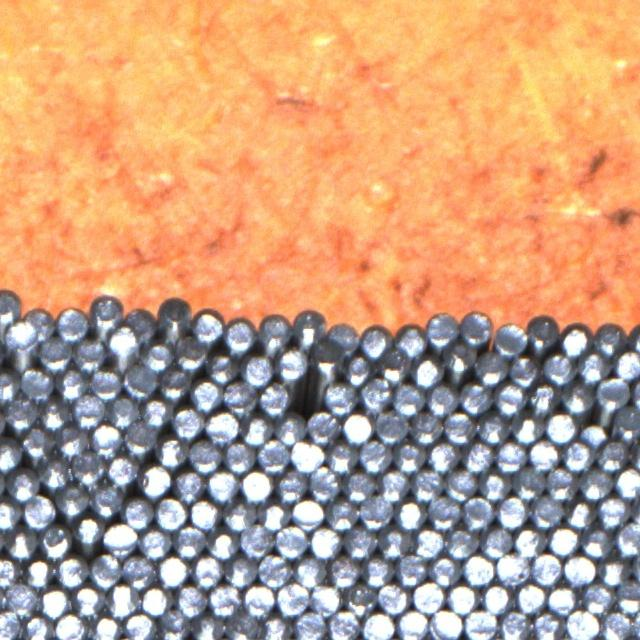tool: (89, 298, 123, 334), (55, 306, 89, 341), (409, 409, 443, 444), (206, 409, 240, 444), (56, 483, 90, 518), (70, 451, 104, 486), (459, 310, 493, 345), (22, 304, 55, 340), (596, 494, 630, 528), (155, 553, 189, 587), (4, 395, 38, 429), (256, 553, 290, 587), (595, 378, 629, 412), (374, 408, 408, 442), (359, 377, 393, 411), (38, 335, 72, 369), (560, 380, 594, 414), (274, 580, 308, 614), (256, 317, 290, 351), (474, 351, 508, 385), (91, 482, 124, 517), (156, 306, 189, 341), (54, 555, 88, 588), (495, 494, 528, 528), (496, 551, 529, 585), (308, 524, 342, 557), (105, 582, 138, 616), (344, 524, 377, 558), (461, 494, 494, 528), (462, 552, 495, 586), (88, 554, 122, 587), (342, 468, 376, 501), (39, 396, 72, 430), (39, 524, 72, 558), (5, 582, 38, 616), (21, 494, 54, 528), (308, 582, 341, 616), (274, 525, 308, 558), (358, 438, 391, 472), (441, 346, 474, 380), (21, 424, 54, 458), (20, 366, 54, 399), (72, 338, 105, 372), (290, 315, 323, 349), (324, 441, 358, 474), (191, 554, 224, 587), (542, 351, 575, 384), (138, 526, 171, 559), (107, 394, 140, 427), (154, 496, 187, 529), (443, 410, 476, 443), (547, 523, 580, 556), (207, 351, 240, 384), (308, 410, 341, 443), (5, 527, 38, 560), (546, 582, 579, 615), (459, 381, 492, 414), (293, 555, 326, 588), (359, 494, 392, 527), (190, 378, 223, 411), (240, 468, 273, 501), (576, 350, 609, 383), (581, 525, 614, 558), (479, 581, 512, 614), (121, 554, 154, 587), (307, 466, 340, 499), (56, 425, 89, 458), (429, 607, 462, 640), (172, 468, 205, 501), (393, 440, 426, 473), (222, 440, 255, 473), (122, 421, 155, 454), (290, 439, 323, 472), (223, 379, 256, 412), (526, 312, 559, 345), (140, 582, 172, 616), (392, 382, 424, 416), (394, 496, 426, 530), (395, 552, 427, 586), (344, 582, 376, 616), (530, 494, 562, 528), (530, 552, 562, 586), (224, 554, 256, 588), (72, 517, 104, 551), (189, 497, 221, 530), (396, 608, 429, 640), (242, 582, 274, 615), (292, 496, 324, 529), (258, 382, 290, 415), (206, 468, 238, 501), (446, 581, 478, 614), (410, 468, 442, 501), (90, 422, 122, 455), (445, 526, 478, 558), (444, 468, 477, 500), (564, 553, 596, 586), (493, 382, 526, 414), (208, 582, 240, 615), (360, 555, 393, 587), (545, 466, 577, 499), (240, 523, 272, 556), (106, 453, 138, 486), (140, 395, 172, 428), (599, 555, 631, 588), (508, 354, 540, 387), (492, 323, 524, 356), (360, 325, 392, 358), (425, 383, 457, 416), (596, 438, 629, 470), (480, 526, 513, 558), (40, 456, 72, 489), (561, 438, 593, 471), (327, 554, 360, 586), (511, 412, 544, 444), (223, 499, 256, 531), (324, 381, 357, 413), (7, 468, 40, 500), (377, 580, 409, 613), (342, 354, 375, 386), (527, 438, 559, 471), (188, 440, 221, 472), (579, 467, 611, 500), (274, 469, 307, 501), (174, 583, 206, 616), (173, 524, 205, 557), (427, 496, 460, 528), (22, 555, 54, 588), (428, 554, 460, 587), (326, 496, 358, 529), (191, 310, 224, 342), (376, 469, 409, 501), (241, 415, 274, 447), (328, 322, 360, 355), (311, 356, 344, 388), (598, 609, 632, 640), (156, 609, 190, 640), (530, 609, 564, 640), (104, 522, 136, 554), (514, 581, 546, 613), (39, 585, 71, 617), (412, 526, 444, 558), (342, 410, 374, 442), (241, 354, 273, 386), (412, 580, 444, 612), (545, 410, 577, 442), (88, 366, 120, 398), (514, 525, 546, 557), (207, 528, 239, 560), (56, 367, 88, 399), (512, 467, 544, 499), (72, 584, 104, 616), (172, 406, 204, 438), (258, 440, 290, 472), (560, 324, 592, 356), (581, 581, 613, 613), (526, 380, 558, 412), (594, 323, 626, 355), (258, 499, 290, 531), (564, 498, 596, 530), (494, 440, 526, 472), (156, 435, 188, 467), (73, 394, 105, 426), (122, 496, 154, 528), (477, 412, 509, 444), (158, 367, 190, 399), (462, 440, 494, 472), (140, 464, 172, 496), (123, 365, 155, 397), (378, 526, 410, 558), (107, 327, 139, 359), (427, 440, 459, 472), (275, 348, 307, 380), (173, 337, 205, 369), (378, 350, 410, 382), (275, 414, 307, 446), (124, 298, 156, 330), (464, 609, 497, 640), (223, 319, 254, 352), (410, 356, 442, 387), (498, 609, 530, 640), (566, 609, 598, 640), (362, 609, 394, 640), (141, 341, 173, 372), (395, 324, 426, 356), (479, 469, 510, 501), (4, 318, 36, 349), (131, 317, 163, 348), (327, 610, 360, 640), (5, 342, 38, 372), (294, 610, 326, 640), (123, 610, 155, 640), (426, 314, 456, 346), (578, 414, 610, 444), (612, 348, 640, 381), (613, 406, 640, 440), (54, 612, 86, 640), (226, 612, 258, 640), (259, 613, 292, 640), (191, 614, 224, 640), (88, 614, 120, 640), (614, 466, 640, 498), (615, 522, 640, 555), (22, 615, 54, 640), (615, 582, 640, 614), (0, 438, 23, 470), (0, 291, 21, 326), (0, 555, 21, 588), (0, 497, 21, 530), (0, 609, 22, 640), (0, 368, 20, 402)
